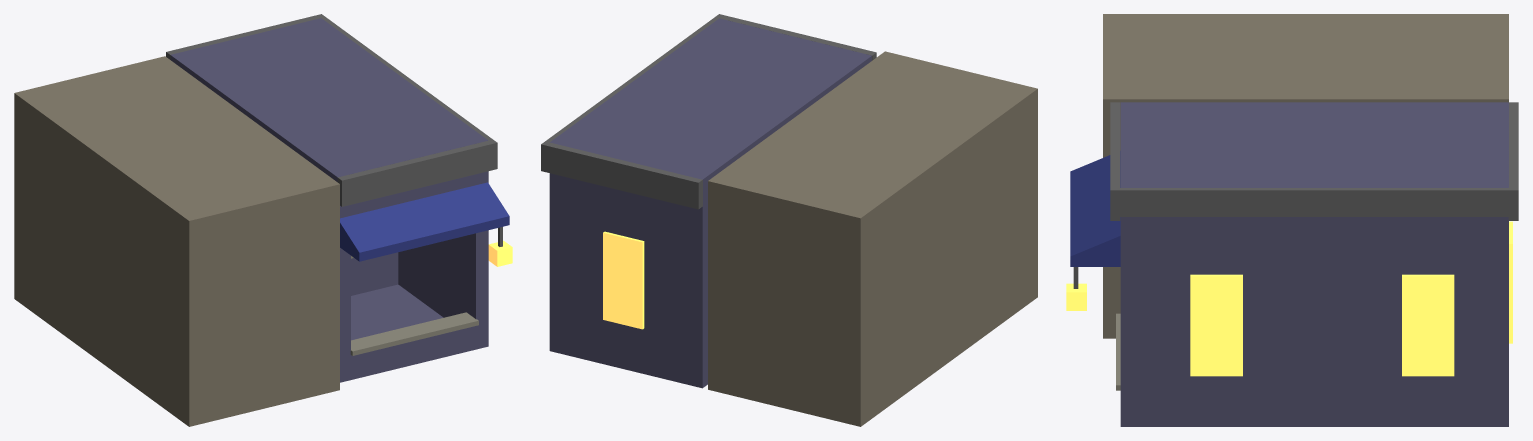
The picture shows the model from 3 angles, left to right: view 1: azimuth 30°, elevation 25°; view 2: azimuth 150°, elevation 25°; view 3: azimuth 270°, elevation 25°; orthographic projection. The views are drawn at different scales.
Visible parts, largest first — view 1: Cube.028, Cube.001, Cube.002, Cube.011, Cube, Cube.010, Cube.012, Cube.007; view 2: Cube.028, Cube.001, Cube.012, Cube.013, Cube.010, Cube.011; view 3: Cube.001, Cube.028, Cube.010, Cube.008, Cube.009, Cube.002, Cube.011, Cube.012, Cube.007, Cube.013.
Boxes of the visible parts, x1,y1,x2,y2 form: Cube.028: (14,56,339,426); Cube.001: (170,18,488,382); Cube.002: (340,182,509,261); Cube.011: (337,139,497,206); Cube: (350,312,478,355); Cube.010: (321,17,492,140); Cube.012: (166,14,325,59); Cube.007: (488,240,512,266); Cube.028: (708,51,1037,426); Cube.001: (549,18,871,388); Cube.012: (541,141,702,209); Cube.013: (603,231,644,329); Cube.010: (545,17,718,142); Cube.011: (715,14,876,60); Cube.001: (1120,102,1508,426); Cube.028: (1103,14,1508,338); Cube.010: (1120,188,1508,216); Cube.008: (1190,274,1242,376); Cube.009: (1402,274,1454,376); Cube.002: (1070,151,1120,266); Cube.011: (1110,102,1120,220); Cube.012: (1508,102,1518,220); Cube.007: (1066,283,1086,310); Cube.013: (1509,221,1512,343).
Bounding box in the file's own units: 12.81 × 8.1 × 13.88.
